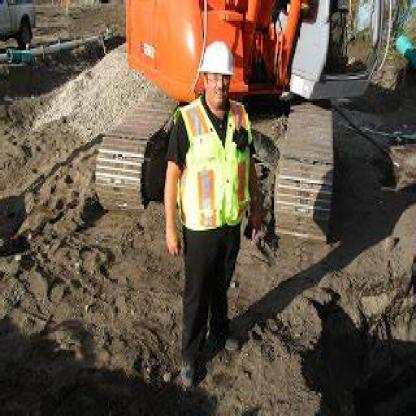person: (165, 26, 257, 385)
